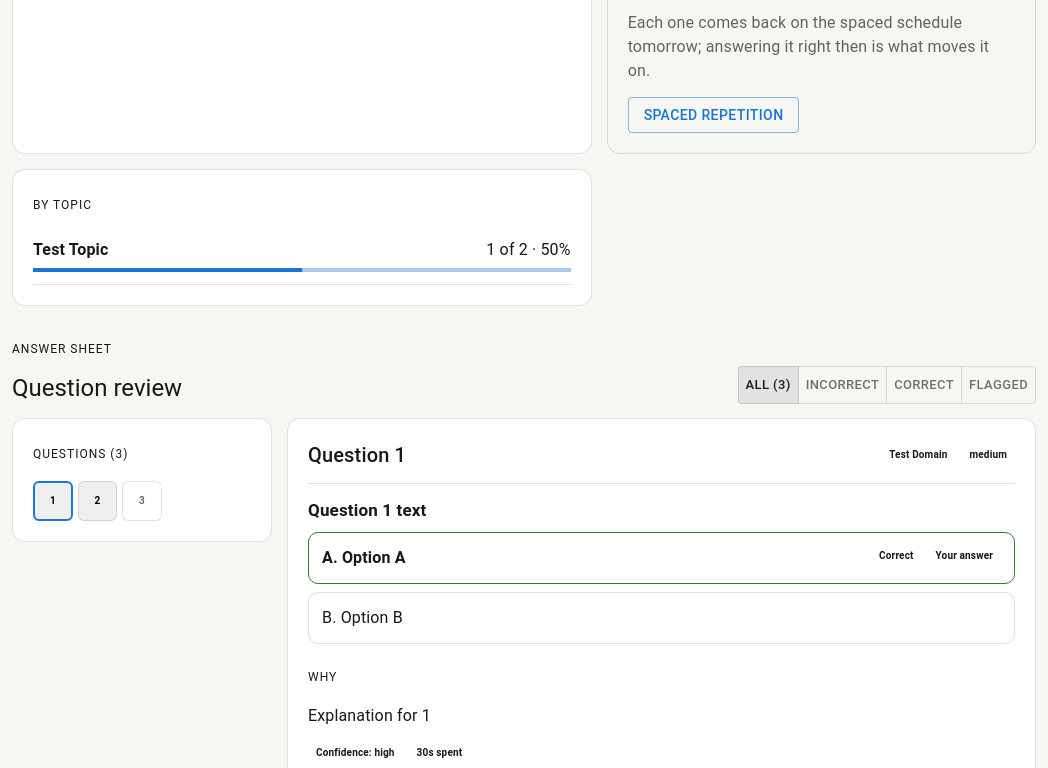
it: ExamReviewPage › filters the question list down to only incorrect answers
The width and height of the screenshot is (1048, 768).
(page scrolled)
Expected: the text "Question 1 text" is shown, [308,500,426,520]
Click the button "Incorrect": x=842, y=385 [798,366,887,404]
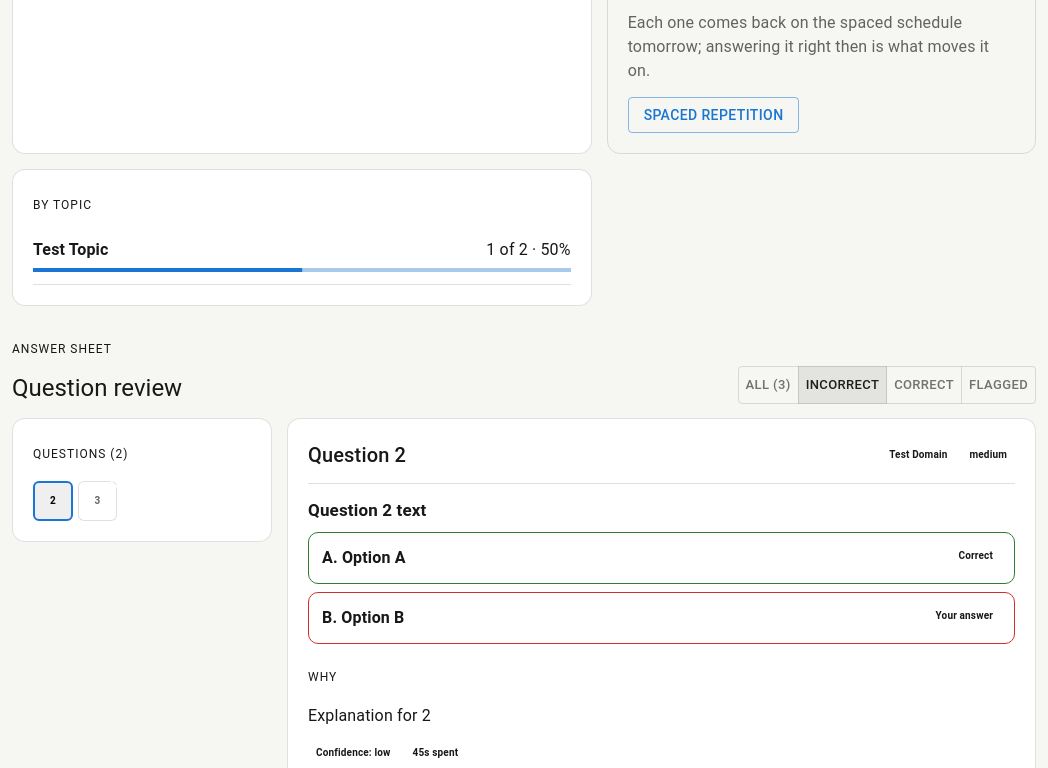
Result: the text "Questions (2)" is shown at [33,447,128,461]
Result: the text "Question 2 text" is shown at [308,500,426,520]
